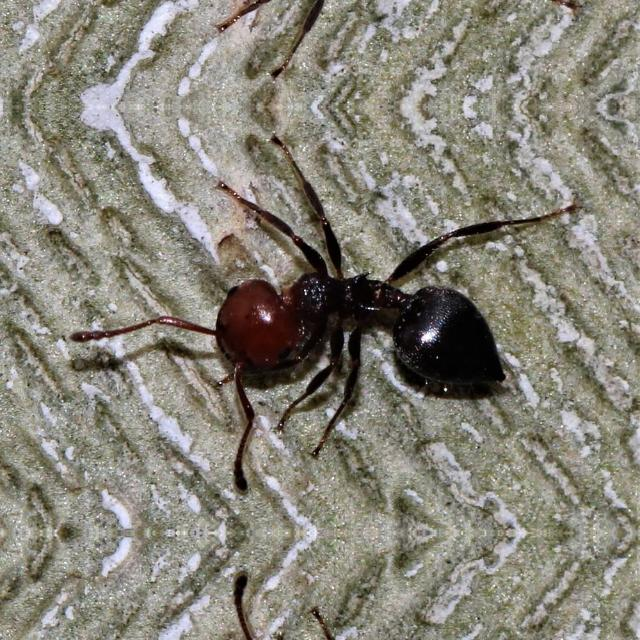Crematogaster: (196, 248, 522, 416)
